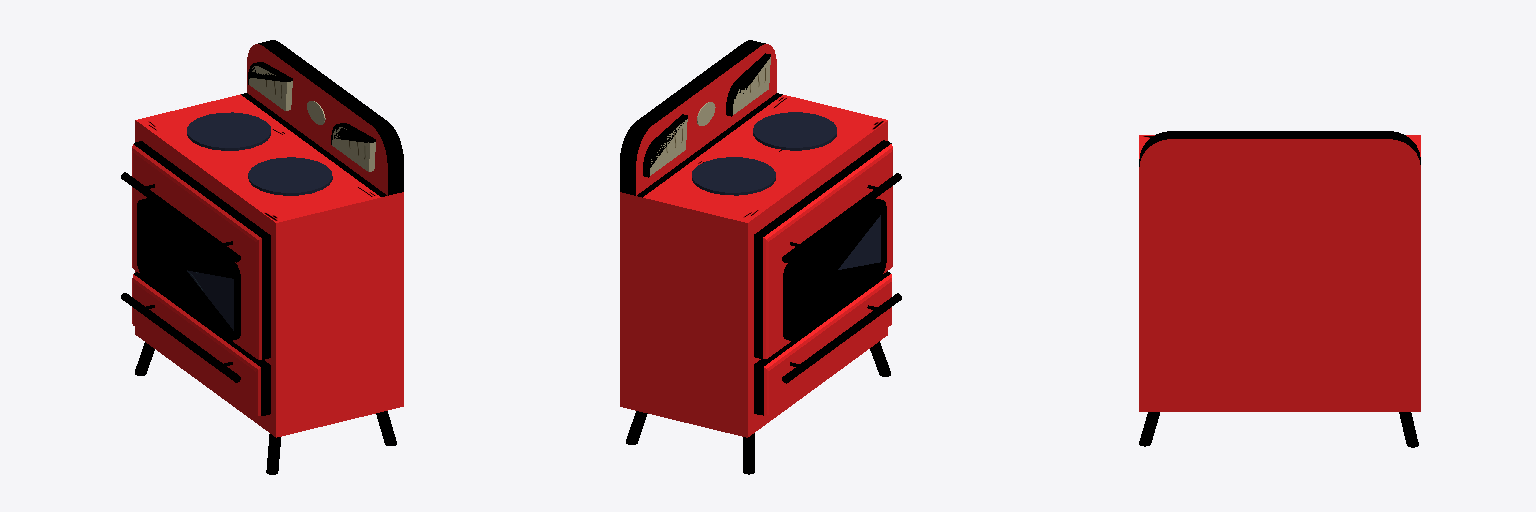
3 views of the same model, side by side, from view 1: azimuth 30°, elevation 25°; view 2: azimuth 150°, elevation 25°; view 3: azimuth 270°, elevation 25° (orthographic).
Visible parts, largest first — view 1: pCube7; view 2: pCube7; view 3: pCube7.
Part boxes in pixels (bbox=[...]): pCube7: bbox=[121, 40, 403, 474]; pCube7: bbox=[620, 40, 901, 474]; pCube7: bbox=[1139, 131, 1420, 447].
Bounding box in the file's own units: 1.91 × 3.63 × 2.99.
6 materials, 4 textured.